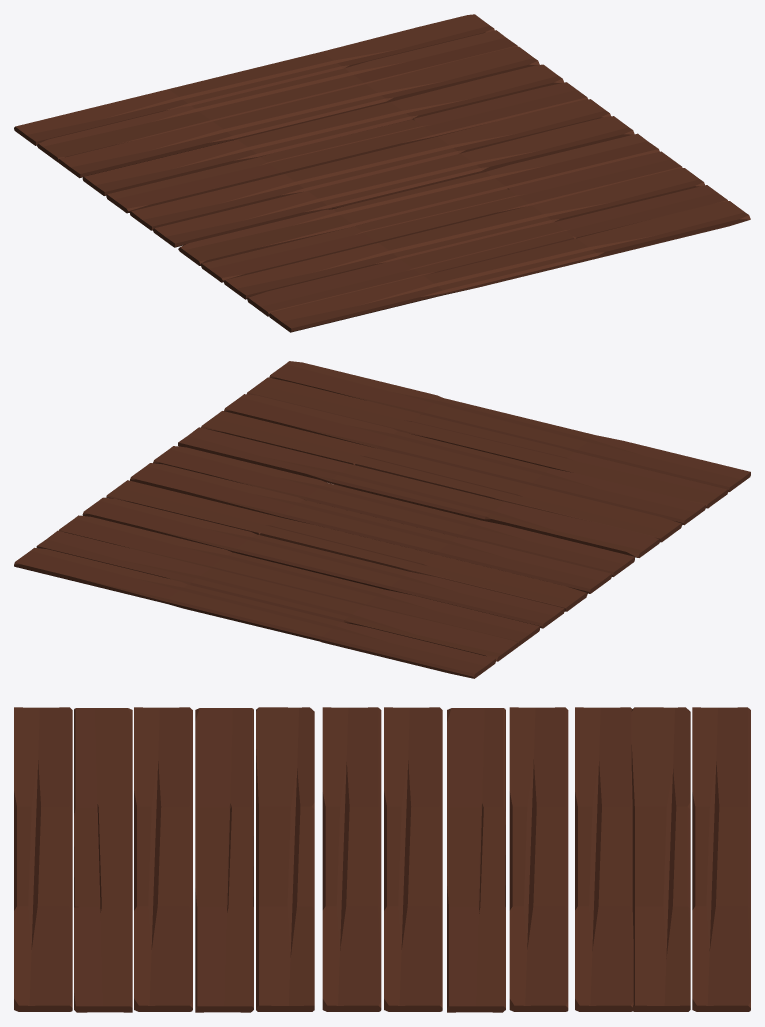
File: Floor.fbx
3 renders of one model, top to bottom at view 1: azimuth 30°, elevation 25°; view 2: azimuth 150°, elevation 25°; view 3: azimuth 270°, elevation 25°, orthographic. The views are drawn at different scales.
Parts seen in each view (by area): view 1: Floor; view 2: Floor; view 3: Floor.
Part boxes in pixels (x1,y1,x2,y2): Floor: [14, 14, 750, 332]; Floor: [14, 361, 750, 678]; Floor: [14, 707, 750, 1012].
Size of the model in its own units: 400 by 4.4 by 418.
